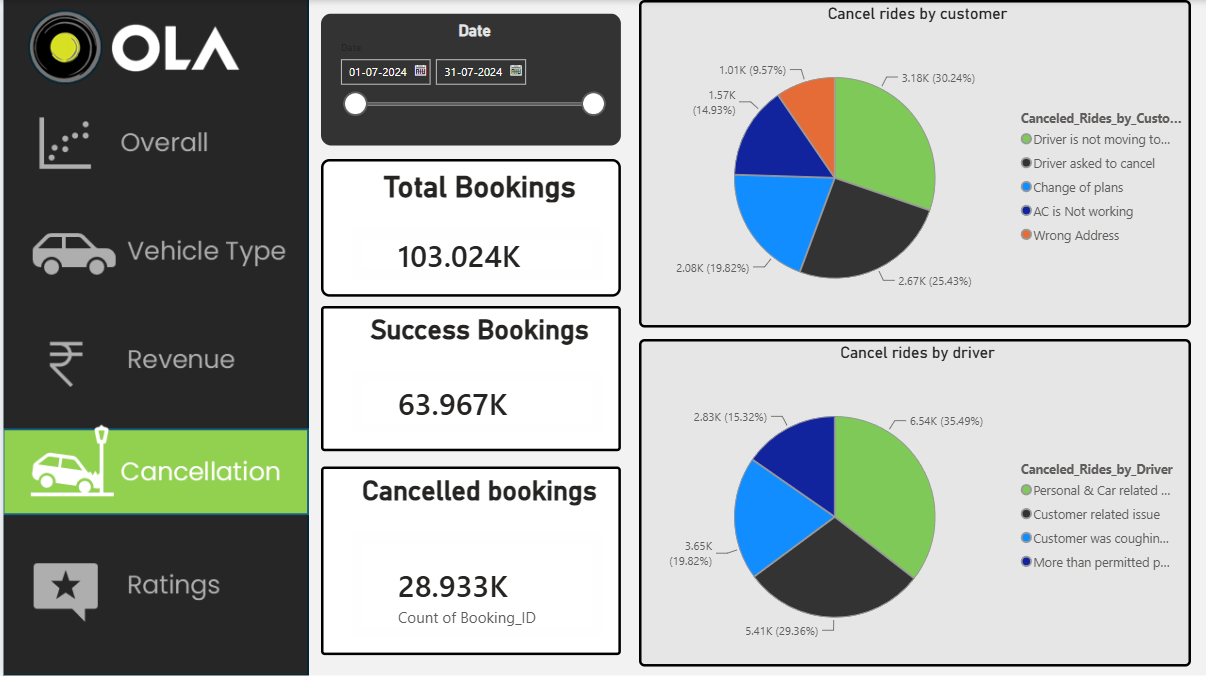

The page's visual inventory and layout, read from the dashboard file:
{"tool":"powerbi","page":{"name":"Cancellation","canvas":[1280,720],"ordinal":3},"visuals":[{"type":"actionButton","box":[0,219.5,324.5,93.8],"z":0},{"type":"actionButton","box":[0,337.2,324.5,93.8],"z":1000},{"type":"actionButton","box":[0,445.4,324.5,97],"z":2000},{"type":"actionButton","box":[0,575.8,324.5,90.7],"z":3000},{"type":"actionButton","box":[0,106.6,324.5,93.8],"z":4000},{"type":"pieChart","title":"Cancel rides by customer","fields":{"Category":["July.Canceled_Rides_by_Customer"],"Y":["CountNonNull(July.Canceled_Rides_by_Customer)"]},"box":[674,0,585.2,347.5],"z":5000},{"type":"pieChart","title":"Cancel rides by driver","fields":{"Category":["July.Canceled_Rides_by_Driver"],"Y":["CountNonNull(July.Canceled_Rides_by_Driver)"]},"box":[674,360,585.2,347.5],"z":6000},{"type":"slicer","title":"Date","fields":{"Values":["July.Date"]},"box":[338,14,318,140],"z":7000},{"type":"cardVisual","title":"Total Bookings","fields":{"Data":["CountNonNull(July.Booking_ID)"]},"box":[338,168,318,146],"z":8000},{"type":"cardVisual","title":"Success Bookings","fields":{"Data":["CountNonNull(July.Booking_ID)"]},"box":[338,324,318,154],"z":9000},{"type":"cardVisual","title":"Cancelled bookings","fields":{"Data":["CountNonNull(July.Booking_ID)"]},"box":[338,494,318,200],"z":10000}]}

Visuals, with their boxes in screenshot pixels (x1, y1, x2, y2), scaled from the page's 1280x720 canvas onto the 1206x676 screenshot:
actionButton: (left=0, top=206, right=306, bottom=294)
actionButton: (left=0, top=317, right=306, bottom=405)
actionButton: (left=0, top=418, right=306, bottom=509)
actionButton: (left=0, top=541, right=306, bottom=626)
actionButton: (left=0, top=100, right=306, bottom=188)
"Cancel rides by customer" pieChart: (left=635, top=0, right=1186, bottom=326)
"Cancel rides by driver" pieChart: (left=635, top=338, right=1186, bottom=664)
"Date" slicer: (left=318, top=13, right=618, bottom=145)
"Total Bookings" cardVisual: (left=318, top=158, right=618, bottom=295)
"Success Bookings" cardVisual: (left=318, top=304, right=618, bottom=449)
"Cancelled bookings" cardVisual: (left=318, top=464, right=618, bottom=652)
